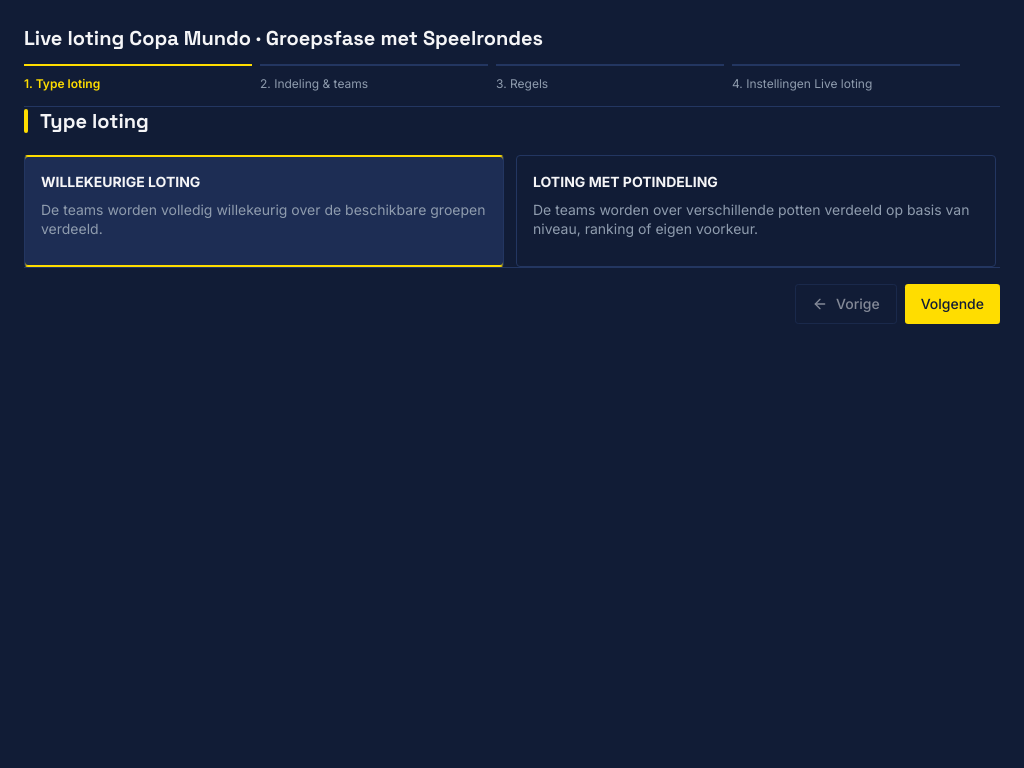
Test: Uniform draw preparation › requires all assigned rounds participants to remain selected
Expected: the button "Willekeurig" is shown, [24, 154, 504, 266]
What coordinates should you click on to do the following:
click the button "Volgende"
I would click on:
 (952, 304)
Its box is [905, 284, 1000, 324].
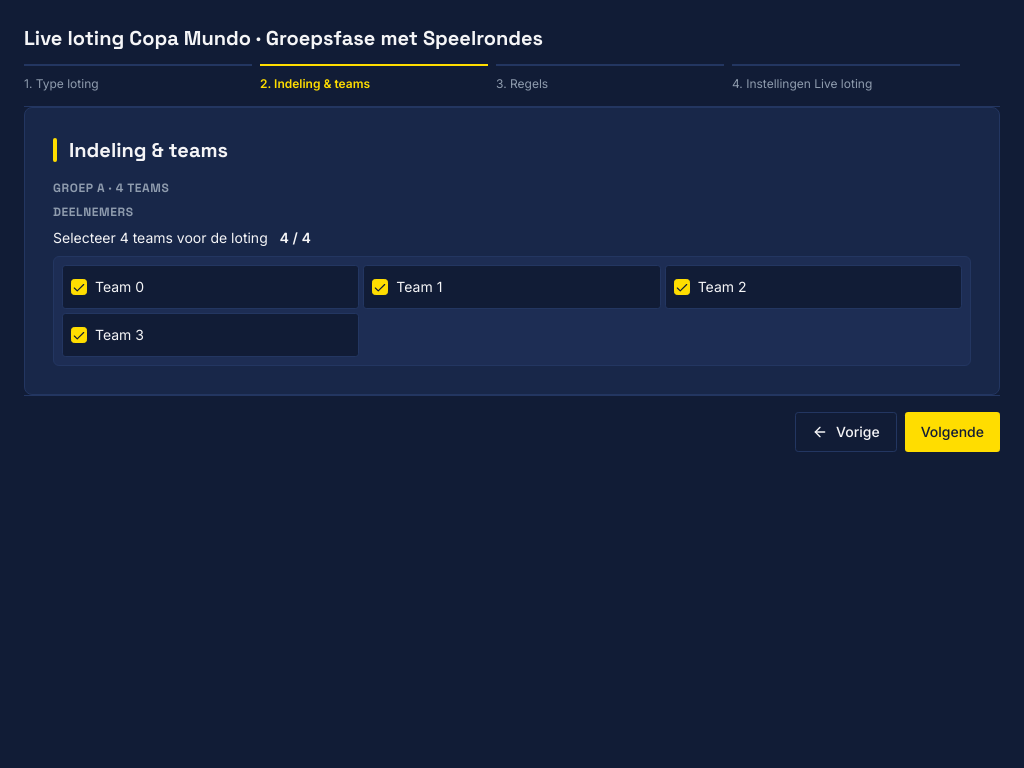
Expected: the text "4 / 4" is shown, [280, 228, 311, 248]
What coordinates should you click on to do the following:
click the checkbox named "Team 1"
I would click on:
 (380, 286)
Its box is [372, 278, 388, 294].
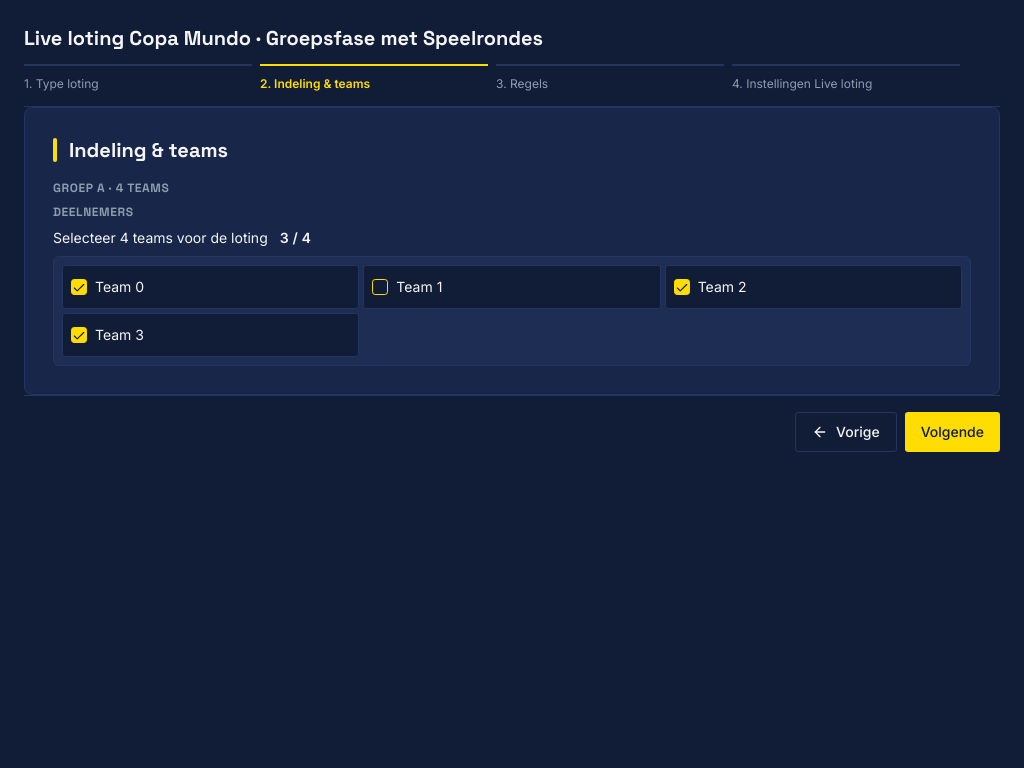
What coordinates should you click on to do the following:
click the button "Volgende"
I would click on:
 (952, 432)
Its box is [905, 412, 1000, 452].
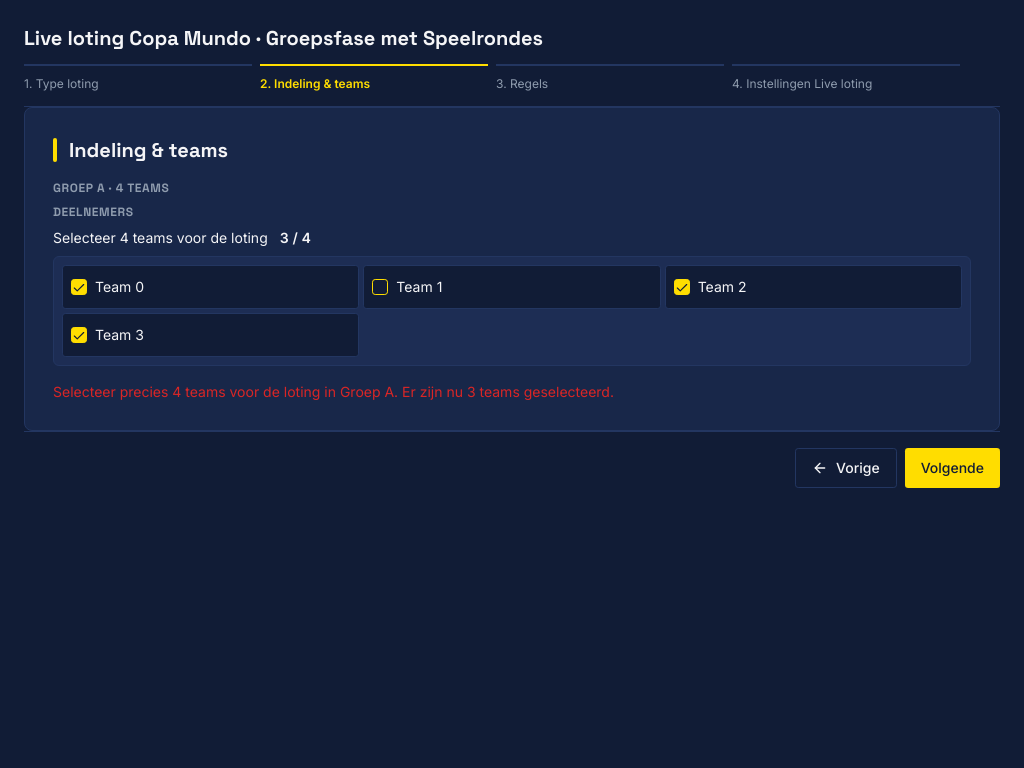
Expected: the message shows "Selecteer precies 4 teams", [53, 382, 614, 400]
What coordinates should you click on to do the following:
click the checkbox named "Team 1"
I would click on:
 (380, 286)
Its box is [372, 278, 388, 294].
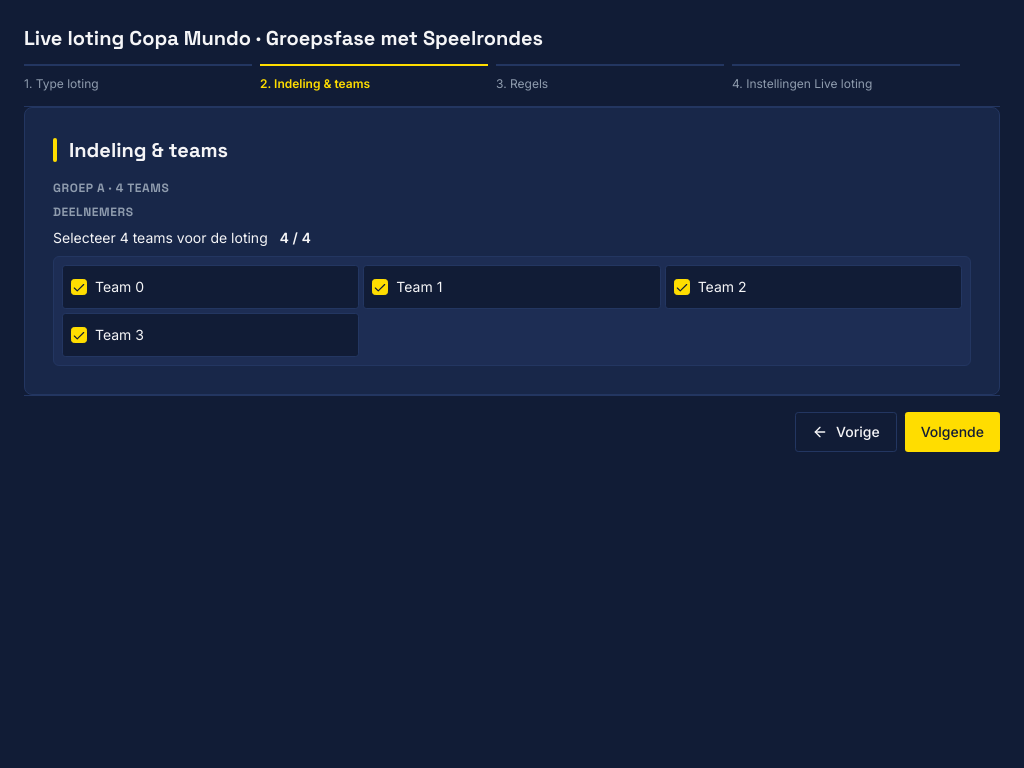
What coordinates should you click on to do the following:
click the button "Volgende"
I would click on:
 (952, 432)
Its box is [905, 412, 1000, 452].
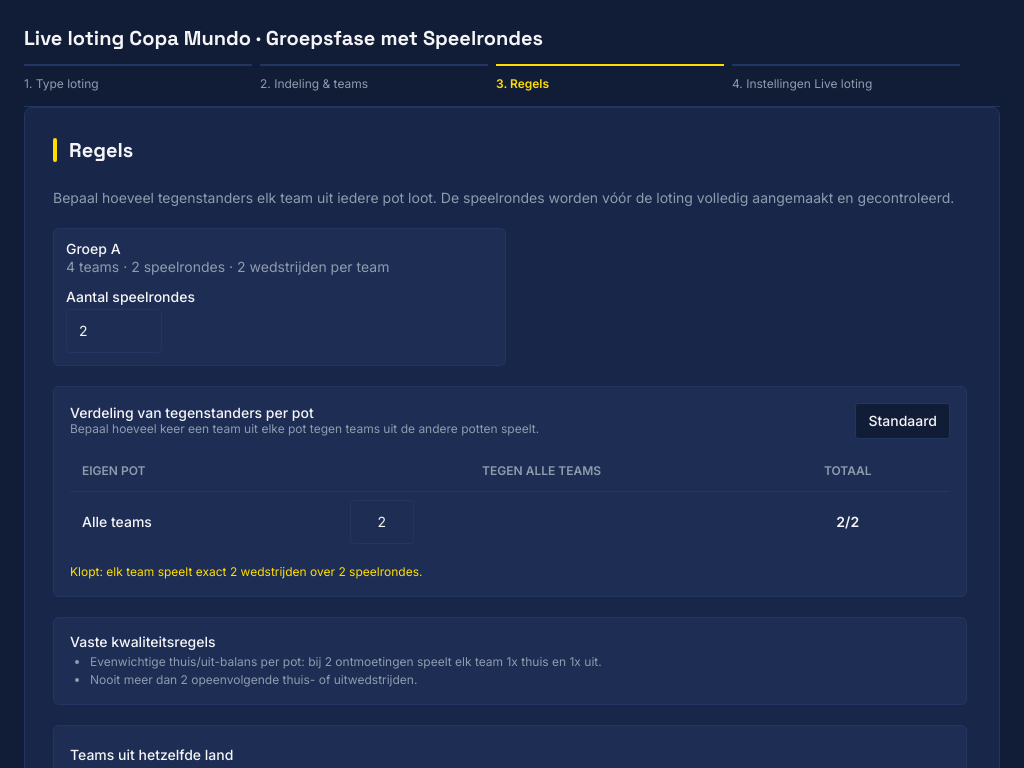
Expected: the heading "Regels" is shown, [69, 136, 133, 162]
